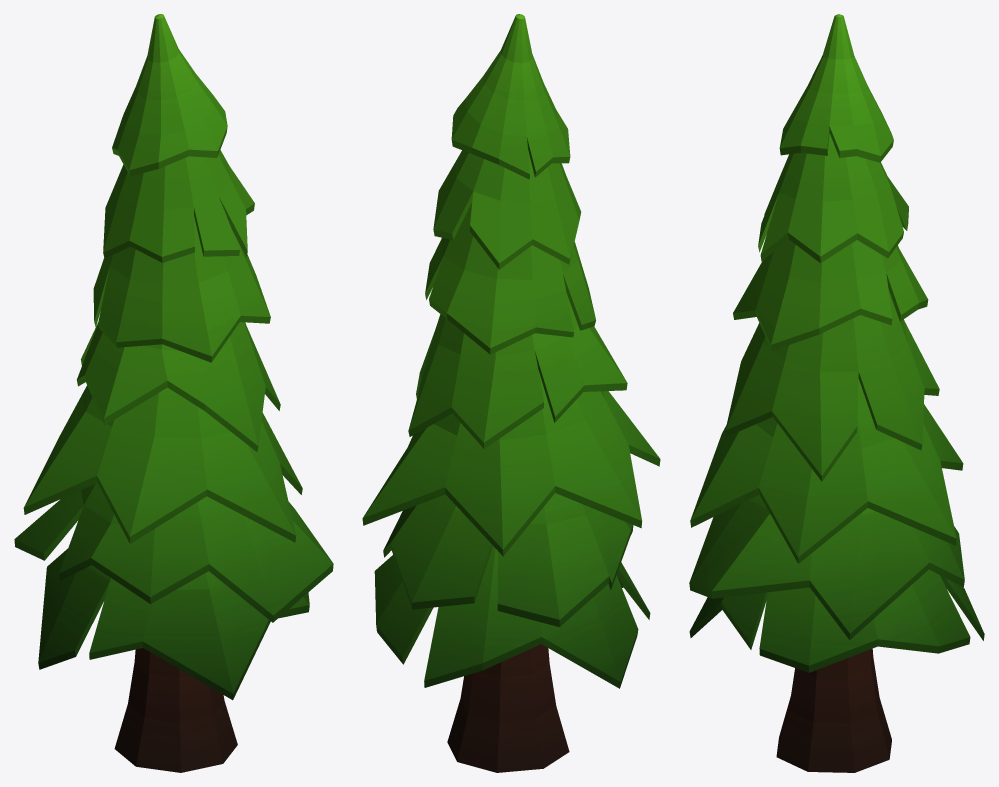
The model's file is FBX_TreeFir.fbx.
3 renders of one model, left to right at view 1: azimuth 30°, elevation 25°; view 2: azimuth 150°, elevation 25°; view 3: azimuth 270°, elevation 25°, orthographic.
Visible parts, largest first — view 1: M_TreeFir; view 2: M_TreeFir; view 3: M_TreeFir.
Part boxes in pixels (x1,y1,x2,y2): M_TreeFir: (14, 14, 333, 772); M_TreeFir: (362, 14, 660, 772); M_TreeFir: (689, 14, 984, 772).
Bounding box in the file's own units: 5.42 × 14.54 × 5.35.
